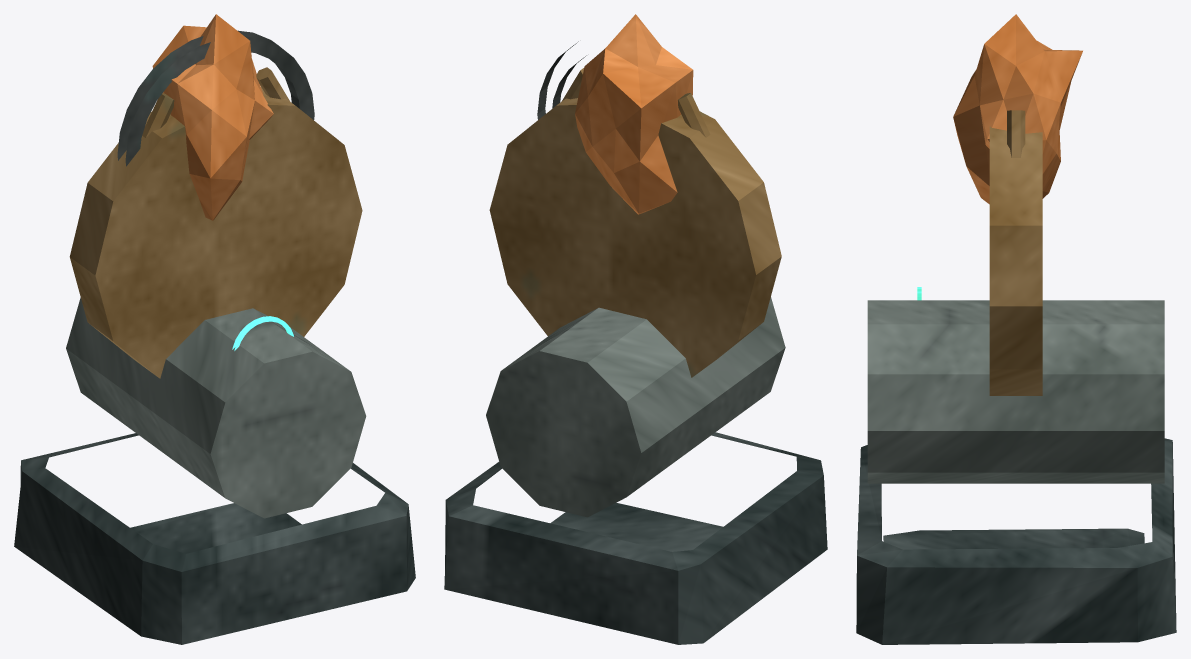
The model's file is 0580_relic_pedestal_05.glb.
3 views of the same model, side by side, from view 1: azimuth 30°, elevation 25°; view 2: azimuth 150°, elevation 25°; view 3: azimuth 270°, elevation 25° (orthographic). The views are drawn at different scales.
Visible parts, largest first — view 1: brass, stone_dark, stone, amber, iron; view 2: brass, stone_dark, stone, amber, iron; view 3: stone, stone_dark, brass, amber.
Part boxes in pixels (x1,y1,x2,y2): brass: (69, 67, 362, 378); stone_dark: (14, 433, 415, 644); stone: (66, 297, 366, 518); amber: (152, 14, 273, 220); iron: (117, 30, 314, 166); brass: (489, 68, 781, 377); stone_dark: (444, 432, 827, 644); stone: (486, 297, 785, 517); amber: (575, 14, 693, 214); iron: (537, 41, 586, 119); stone: (867, 300, 1164, 483); stone_dark: (856, 438, 1176, 644); brass: (989, 110, 1042, 395); amber: (953, 14, 1082, 204).
Bounding box in the file's own units: 0.9687 × 1.91 × 0.9705.
6 materials, 6 textured.
